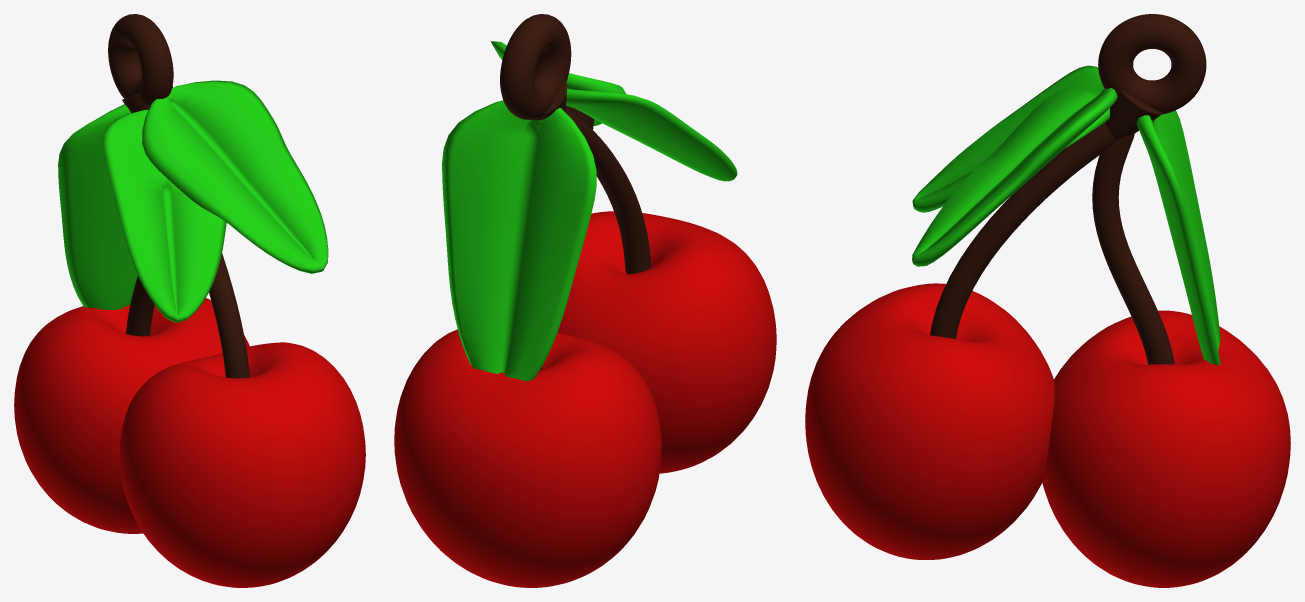
Rendered from Cherries.obj.
The picture shows the model from 3 angles, left to right: view 1: azimuth 30°, elevation 25°; view 2: azimuth 150°, elevation 25°; view 3: azimuth 270°, elevation 25°; orthographic projection. The views are drawn at different scales.
Parts seen in each view (by area): view 1: Cherry.L; view 2: Cherry.L; view 3: Cherry.L.
Boxes of the visible parts, <box> form: Cherry.L: <box>14,14,365,587</box>; Cherry.L: <box>394,14,776,587</box>; Cherry.L: <box>805,14,1290,587</box>.
Bounding box in the file's own units: 1.48 × 3.34 × 2.62.
